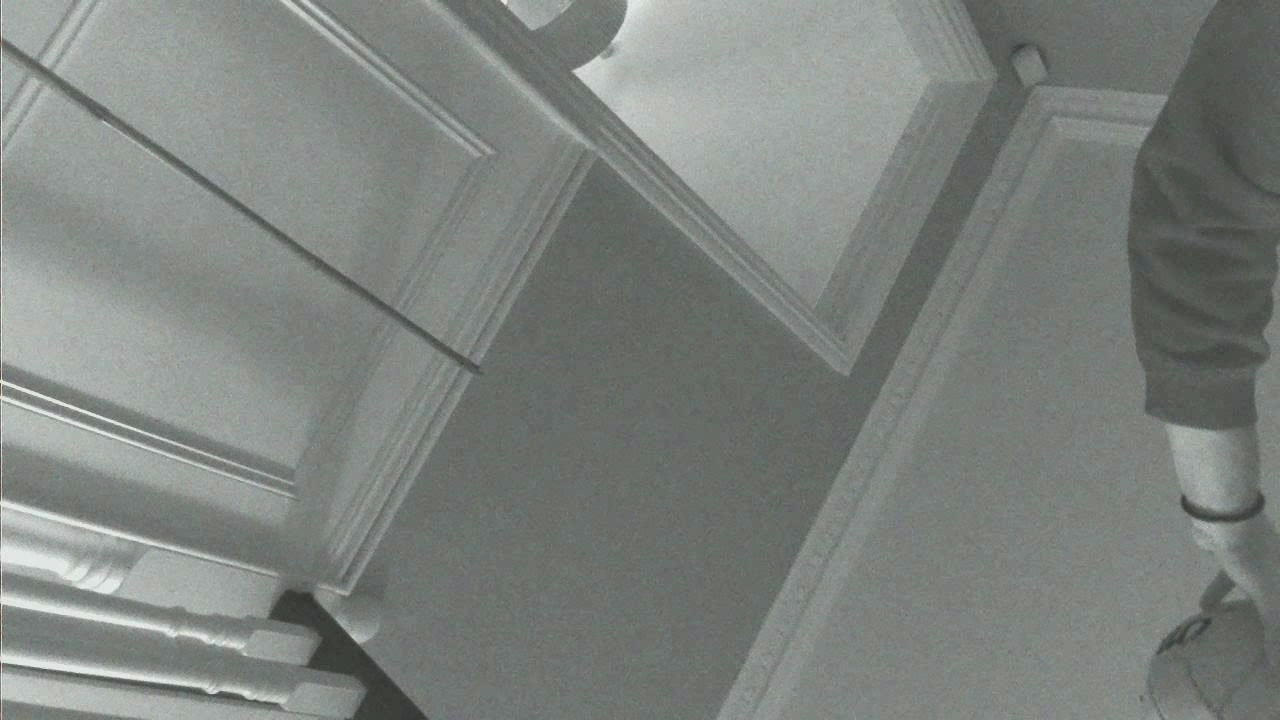Football-Spotter: (1146, 601, 1279, 719)
